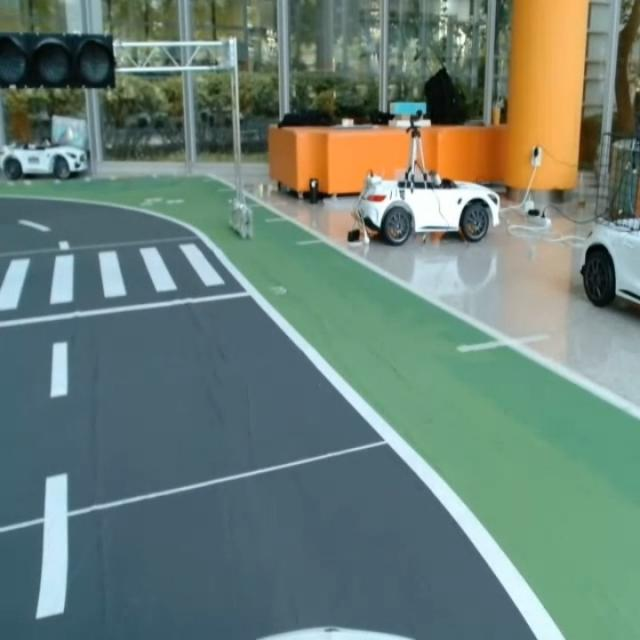traffic-light: (0, 27, 121, 92)
